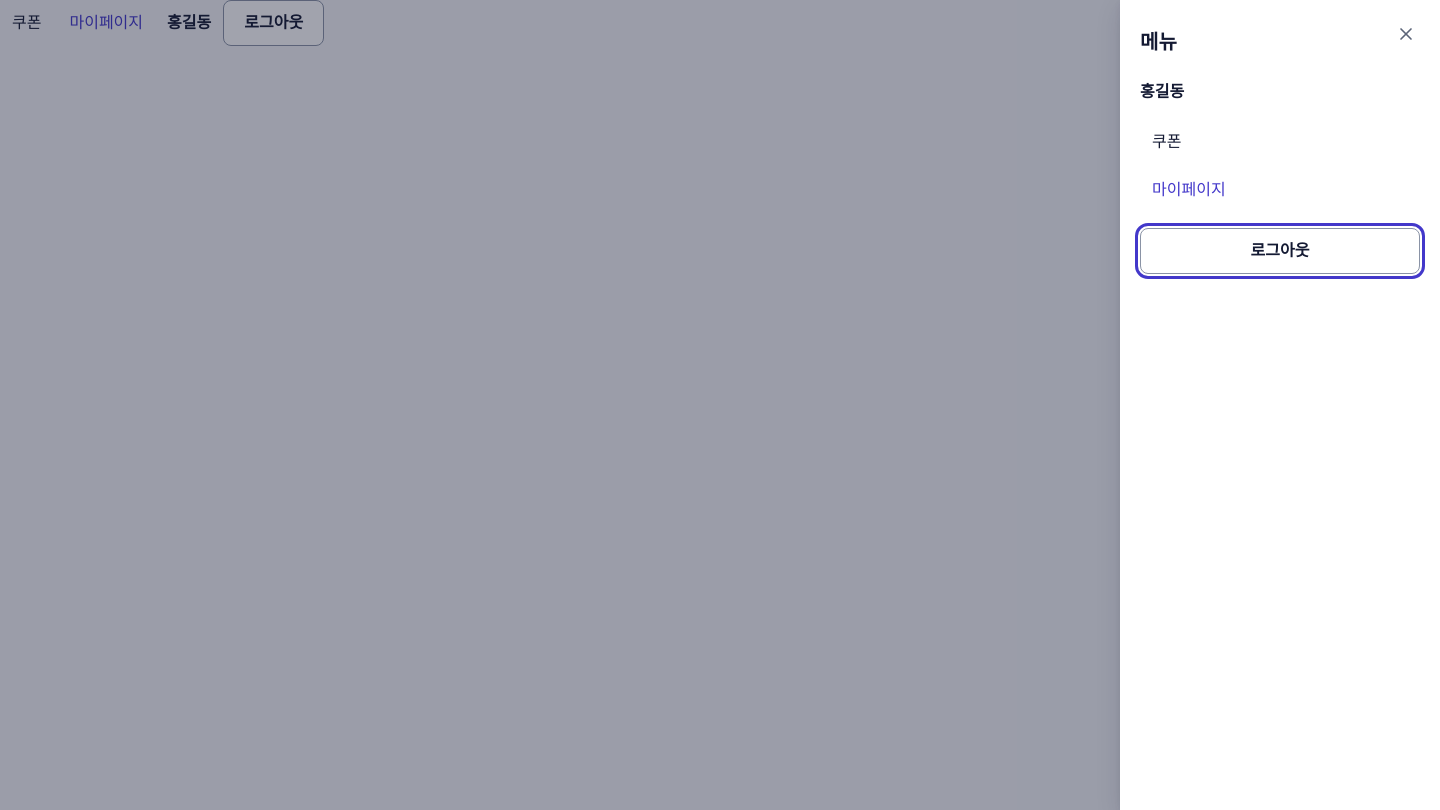
Test: HeaderNav › 모바일 메뉴 버튼으로 시트를 열고 링크를 누르면 닫힌다
This screenshot has width=1440, height=810.
Earlier steps of the test are not shown.
Click the link "쿠폰": (1167, 142) [1152,133,1182,150]
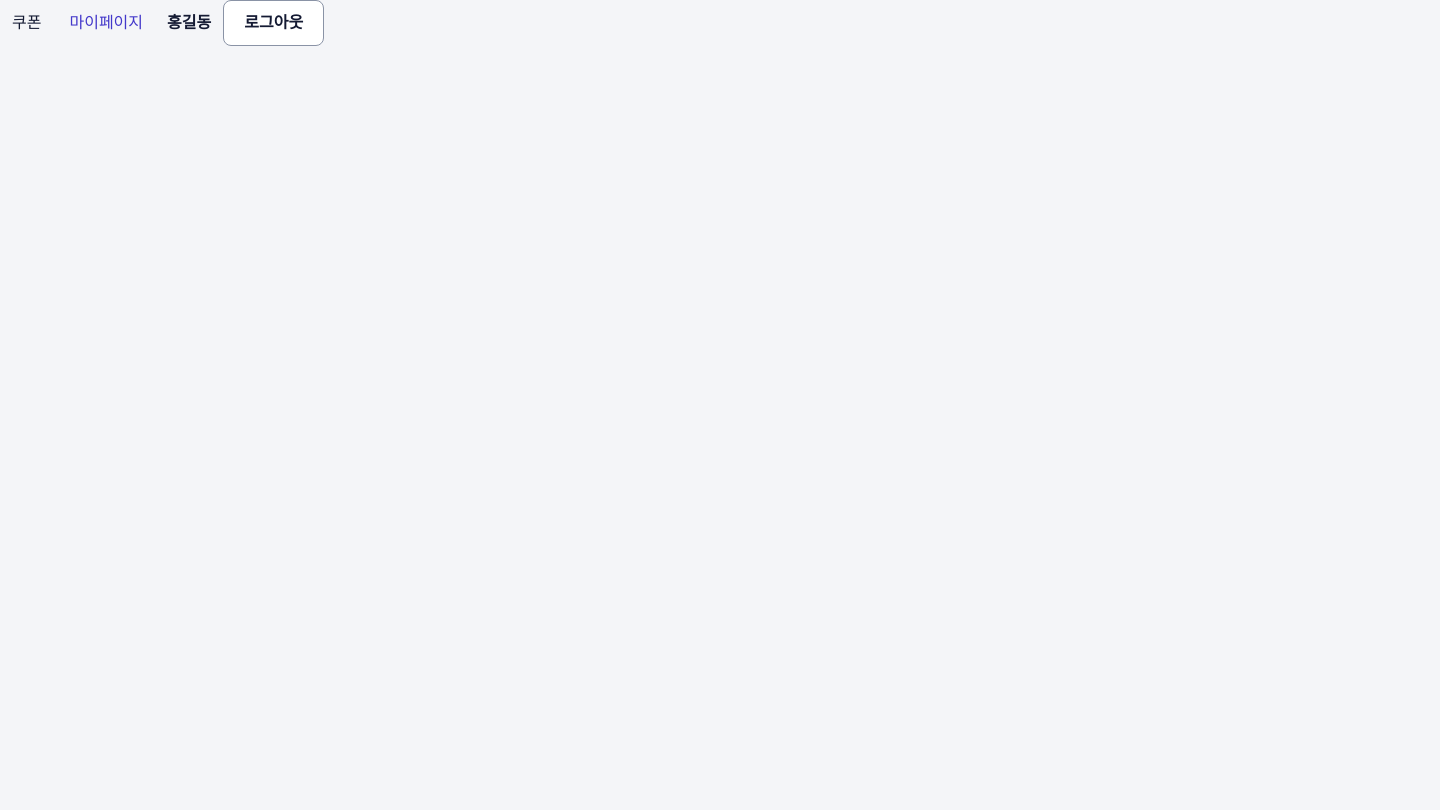
Expected: the dialog is gone
